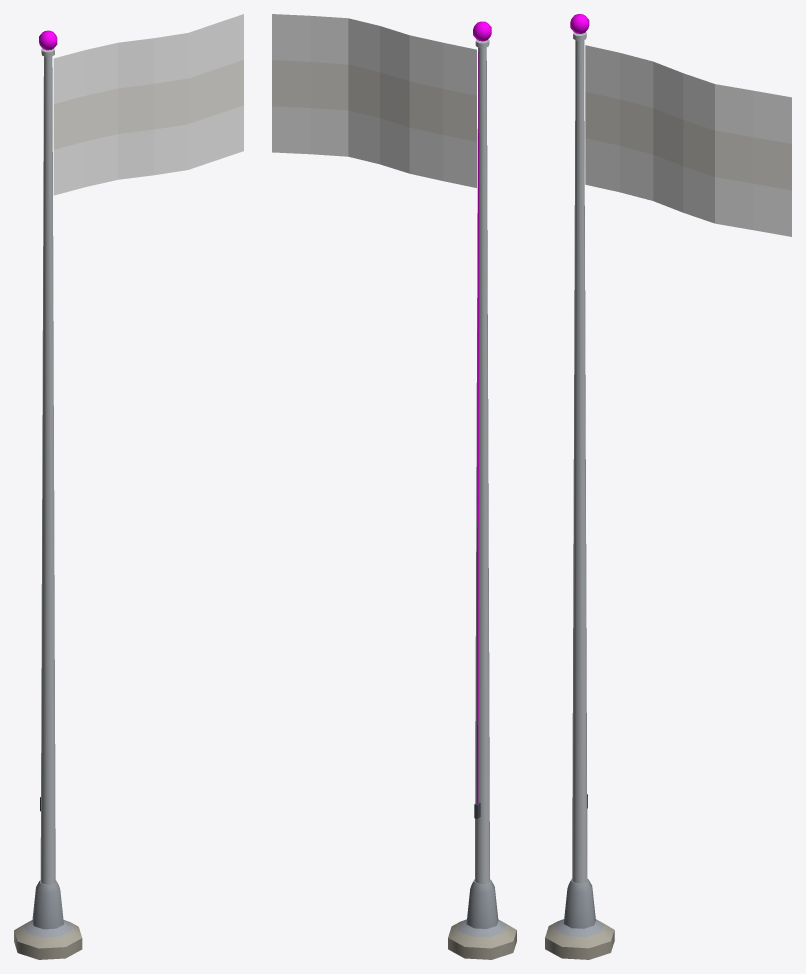
Rendered from prop_flagpole.glb.
3 views of the same model, side by side, from view 1: azimuth 30°, elevation 25°; view 2: azimuth 150°, elevation 25°; view 3: azimuth 330°, elevation 25° (orthographic).
Parts seen in each view (by area): view 1: prop_flagpole__flag, prop_flagpole__mesh; view 2: prop_flagpole__flag, prop_flagpole__mesh; view 3: prop_flagpole__flag, prop_flagpole__mesh.
Boxes of the visible parts, x1,y1,x2,y2 form: prop_flagpole__flag: [53, 14, 243, 195]; prop_flagpole__mesh: [14, 30, 82, 959]; prop_flagpole__flag: [272, 14, 476, 187]; prop_flagpole__mesh: [448, 21, 516, 959]; prop_flagpole__flag: [585, 45, 791, 236]; prop_flagpole__mesh: [545, 14, 614, 959].
Size of the model in its own units: 2.13 by 8 by 0.56.
1 material, 1 textured.
